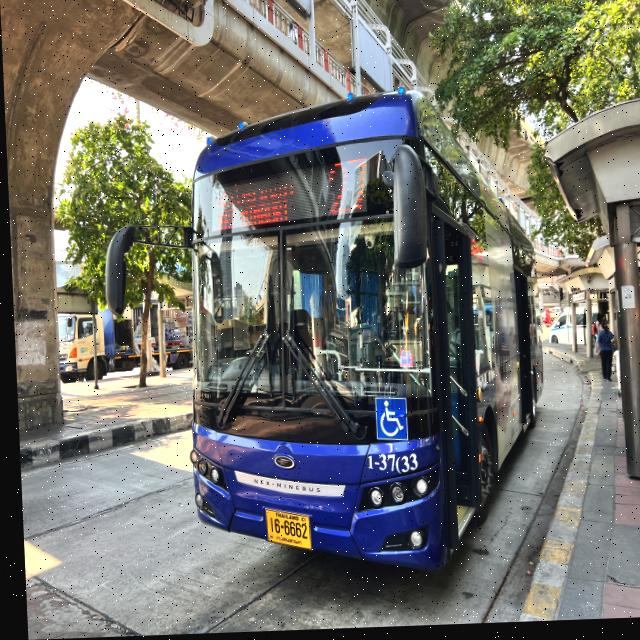Bus-Line-Number: (319, 155, 375, 223)
Destination-Sign-Normal: (209, 172, 296, 231)
TSB-Bus: (172, 91, 547, 584)
